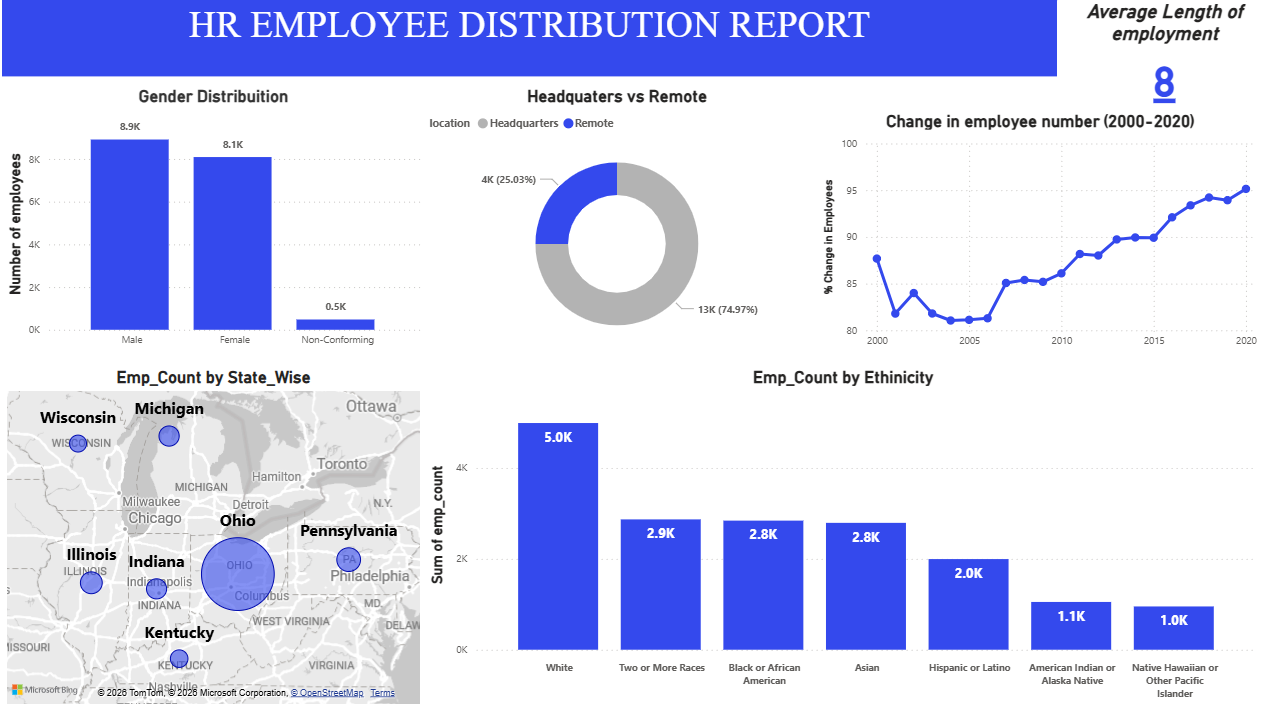

Layout of this report page (visuals, bound fields, positions):
{"tool":"powerbi","page":{"name":"Page 1","canvas":[1280,720],"ordinal":0},"visuals":[{"type":"textbox","box":[9.8,0,1055.3,78.3],"z":0},{"type":"card","title":"Average Length of employment","fields":{"Values":["Sum(avg_len_employment.avg_len_employment)"]},"box":[1065.1,2.4,215.2,110.1],"z":1000},{"type":"columnChart","title":"Gender Distribuition","fields":{"Category":["gender count.gender"],"Y":["Sum(gender count.emp_count)"]},"box":[9.8,88,423.1,271.5],"z":2000},{"type":"donutChart","title":"Headquaters vs Remote","fields":{"Category":["location.location"],"Y":["Sum(location.count)"]},"box":[432.9,88,385.2,270.2],"z":3000},{"type":"lineChart","title":"Change in employee number (2000-2020)","fields":{"Category":["net_change.year"],"Y":["Sum(net_change.net_change_percent)"]},"box":[826.6,112.5,443.9,247],"z":4000},{"type":"map","title":"Emp_Count by State_Wise","fields":{"Category":["state_wise emp.state"],"Size":["Sum(state_wise emp.count)"]},"box":[9.8,369.3,423.1,342.4],"z":5000},{"type":"clusteredColumnChart","title":"Emp_Count by Ethinicity","fields":{"Category":["race count.race"],"Y":["Sum(race count.emp_count)"]},"box":[432.9,369.3,837.6,341.2],"z":6000}]}

Visuals, with their boxes in screenshot pixels (x1, y1, x2, y2), scaled from the page's 1280x720 canvas onto the 1263x714 screenshot:
textbox: {"x1": 10, "y1": 0, "x2": 1051, "y2": 78}
"Average Length of employment" card: {"x1": 1051, "y1": 2, "x2": 1262, "y2": 112}
"Gender Distribuition" columnChart: {"x1": 10, "y1": 87, "x2": 427, "y2": 357}
"Headquaters vs Remote" donutChart: {"x1": 427, "y1": 87, "x2": 807, "y2": 355}
"Change in employee number (2000-2020)" lineChart: {"x1": 816, "y1": 112, "x2": 1254, "y2": 357}
"Emp_Count by State_Wise" map: {"x1": 10, "y1": 366, "x2": 427, "y2": 706}
"Emp_Count by Ethinicity" clusteredColumnChart: {"x1": 427, "y1": 366, "x2": 1254, "y2": 705}
